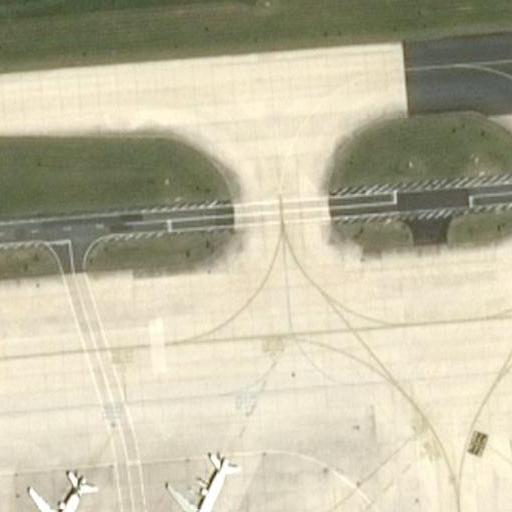Aircraft: (160, 441, 248, 512), (19, 463, 108, 512)
